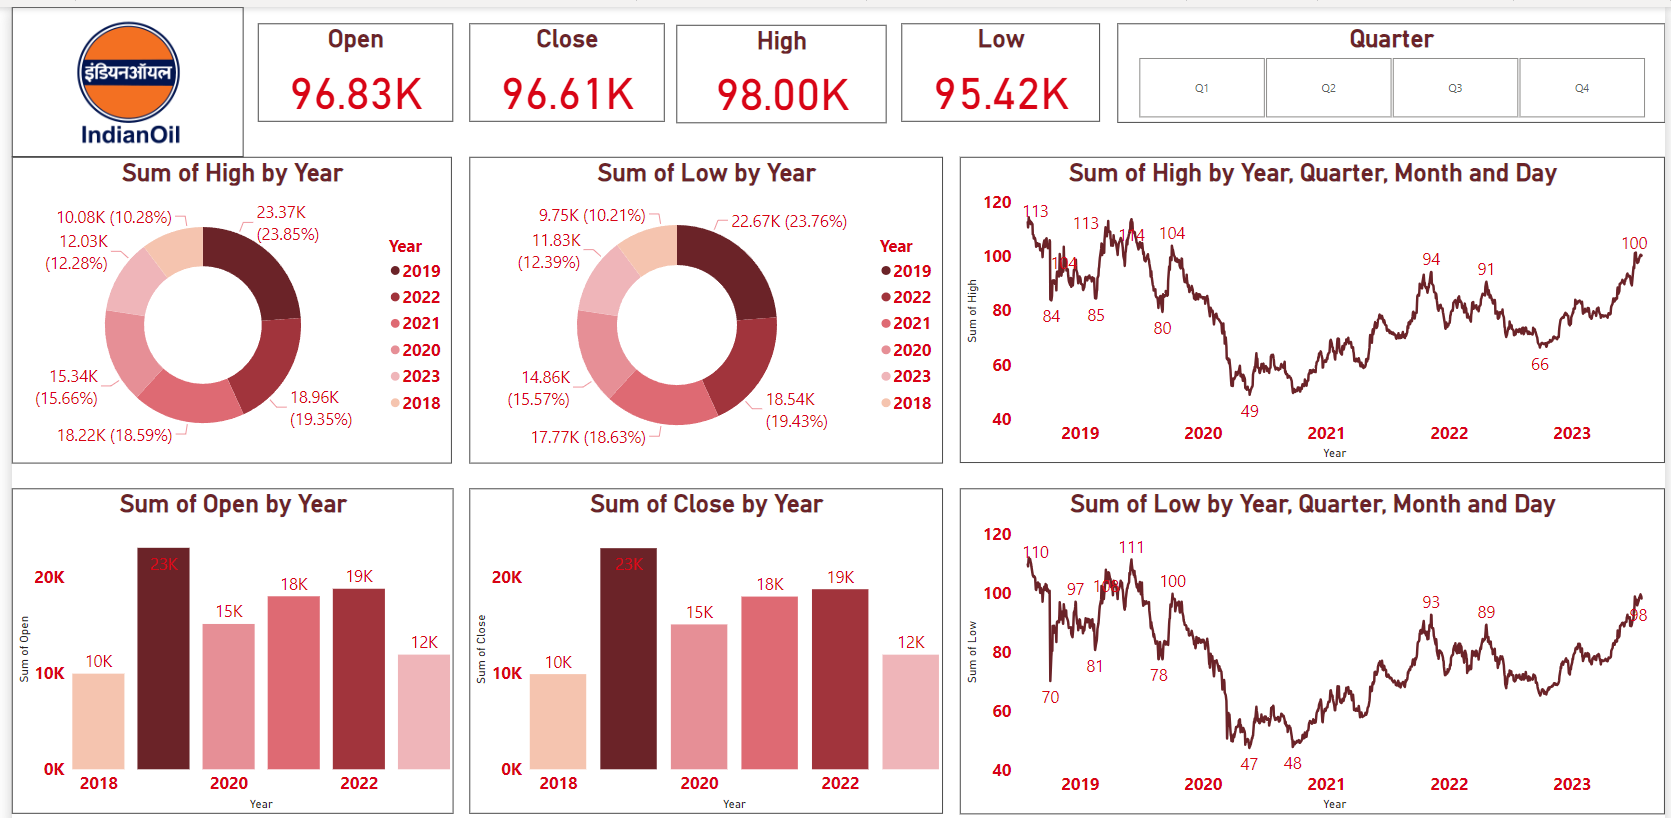

Layout of this report page (visuals, bound fields, positions):
{"tool":"powerbi","page":{"name":"Duplicate of Page 1","canvas":[2000,1000],"ordinal":1},"visuals":[{"type":"slicer","title":"Quarter","fields":{"Values":["Indian Oil Data.Quarter"]},"box":[1426.5,20,573.5,119.8],"z":0},{"type":"card","title":"Open","fields":{"Values":["Sum(Indian Oil Data.Open)"]},"box":[1.8,20,245,119.8],"z":1000},{"type":"card","title":"Close","fields":{"Values":["Sum(Indian Oil Data.Close)"]},"box":[266.8,20,243.2,119.8],"z":2000},{"type":"card","title":"High","fields":{"Values":["Sum(Indian Oil Data.High)"]},"box":[531.8,20,252.3,119.8],"z":3000},{"type":"card","title":"Low","fields":{"Values":["Sum(Indian Oil Data.Low)"]},"box":[1179.7,20,226.9,119.8],"z":4000},{"type":"donutChart","fields":{"Y":["Sum(Indian Oil Data.High)"],"Category":["Indian Oil Data.Year"]},"box":[1.8,139.7,529.9,323],"z":5000},{"type":"donutChart","fields":{"Y":["Sum(Indian Oil Data.Low)"],"Category":["Indian Oil Data.Year"]},"box":[1426.5,139.7,573.5,323],"z":6000},{"type":"columnChart","fields":{"Category":["Indian Oil Data.Year"],"Y":["Sum(Indian Oil Data.Open)"]},"box":[1.8,720.5,531.8,279.5],"z":7000},{"type":"columnChart","fields":{"Category":["Indian Oil Data.Year"],"Y":["Sum(Indian Oil Data.Close)"]},"box":[1426.5,720.5,573.5,279.5],"z":8000},{"type":"image","box":[784,9.1,395.6,130.7],"z":9000},{"type":"lineChart","fields":{"Category":["Indian Oil Data.Date.Variation.Date Hierarchy.Year","Indian Oil Data.Date.Variation.Date Hierarchy.Quarter","Indian Oil Data.Date.Variation.Date Hierarchy.Month","Indian Oil Data.Date.Variation.Date Hierarchy.Day"],"Y":["Sum(Indian Oil Data.High)"]},"box":[553.5,139.7,853,323],"z":10000},{"type":"lineChart","fields":{"Category":["Indian Oil Data.Date.Variation.Date Hierarchy.Year","Indian Oil Data.Date.Variation.Date Hierarchy.Quarter","Indian Oil Data.Date.Variation.Date Hierarchy.Month","Indian Oil Data.Date.Variation.Date Hierarchy.Day"],"Y":["Sum(Indian Oil Data.Low)"]},"box":[553.5,720.5,853,279.5],"z":11000},{"type":"lineChart","fields":{"Category":["Indian Oil Data.Date.Variation.Date Hierarchy.Year","Indian Oil Data.Date.Variation.Date Hierarchy.Quarter","Indian Oil Data.Date.Variation.Date Hierarchy.Month","Indian Oil Data.Date.Variation.Date Hierarchy.Day"],"Y":["Sum(Indian Oil Data.Close)"]},"box":[1041.7,462.8,958.3,257.7],"z":12000},{"type":"lineChart","fields":{"Category":["Indian Oil Data.Date.Variation.Date Hierarchy.Year","Indian Oil Data.Date.Variation.Date Hierarchy.Quarter","Indian Oil Data.Date.Variation.Date Hierarchy.Month","Indian Oil Data.Date.Variation.Date Hierarchy.Day"],"Y":["Sum(Indian Oil Data.Open)"]},"box":[2.4,463.4,1040.2,257.7],"z":13000}]}

Visuals, with their boxes in screenshot pixels (x1, y1, x2, y2), scaled from the page's 2000x1000 canvas onto the 1671x818 screenshot:
"Quarter" slicer: [x1=1192, y1=16, x2=1670, y2=114]
"Open" card: [x1=2, y1=16, x2=206, y2=114]
"Close" card: [x1=223, y1=16, x2=426, y2=114]
"High" card: [x1=444, y1=16, x2=655, y2=114]
"Low" card: [x1=986, y1=16, x2=1175, y2=114]
donutChart - Sum(Indian Oil Data.High) x Indian Oil Data.Year: [x1=2, y1=114, x2=444, y2=378]
donutChart - Sum(Indian Oil Data.Low) x Indian Oil Data.Year: [x1=1192, y1=114, x2=1670, y2=378]
columnChart - Indian Oil Data.Year x Sum(Indian Oil Data.Open): [x1=2, y1=589, x2=446, y2=817]
columnChart - Indian Oil Data.Year x Sum(Indian Oil Data.Close): [x1=1192, y1=589, x2=1670, y2=817]
image: [x1=655, y1=7, x2=986, y2=114]
lineChart - Indian Oil Data.Date.Variation.Date Hierarchy.Year x Indian Oil Data.Date.Variation.Date Hierarchy.Quarter: [x1=462, y1=114, x2=1175, y2=378]
lineChart - Indian Oil Data.Date.Variation.Date Hierarchy.Year x Indian Oil Data.Date.Variation.Date Hierarchy.Quarter: [x1=462, y1=589, x2=1175, y2=817]
lineChart - Indian Oil Data.Date.Variation.Date Hierarchy.Year x Indian Oil Data.Date.Variation.Date Hierarchy.Quarter: [x1=870, y1=379, x2=1670, y2=589]
lineChart - Indian Oil Data.Date.Variation.Date Hierarchy.Year x Indian Oil Data.Date.Variation.Date Hierarchy.Quarter: [x1=2, y1=379, x2=871, y2=590]
